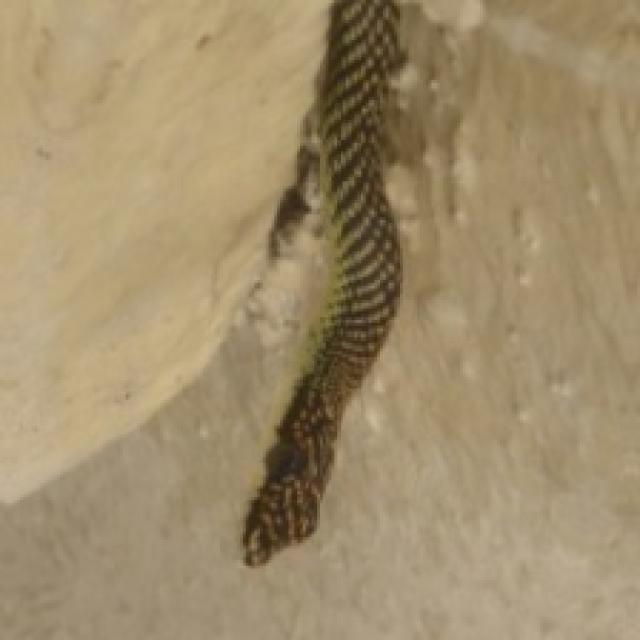paradise tree snake: (243, 0, 400, 563)
